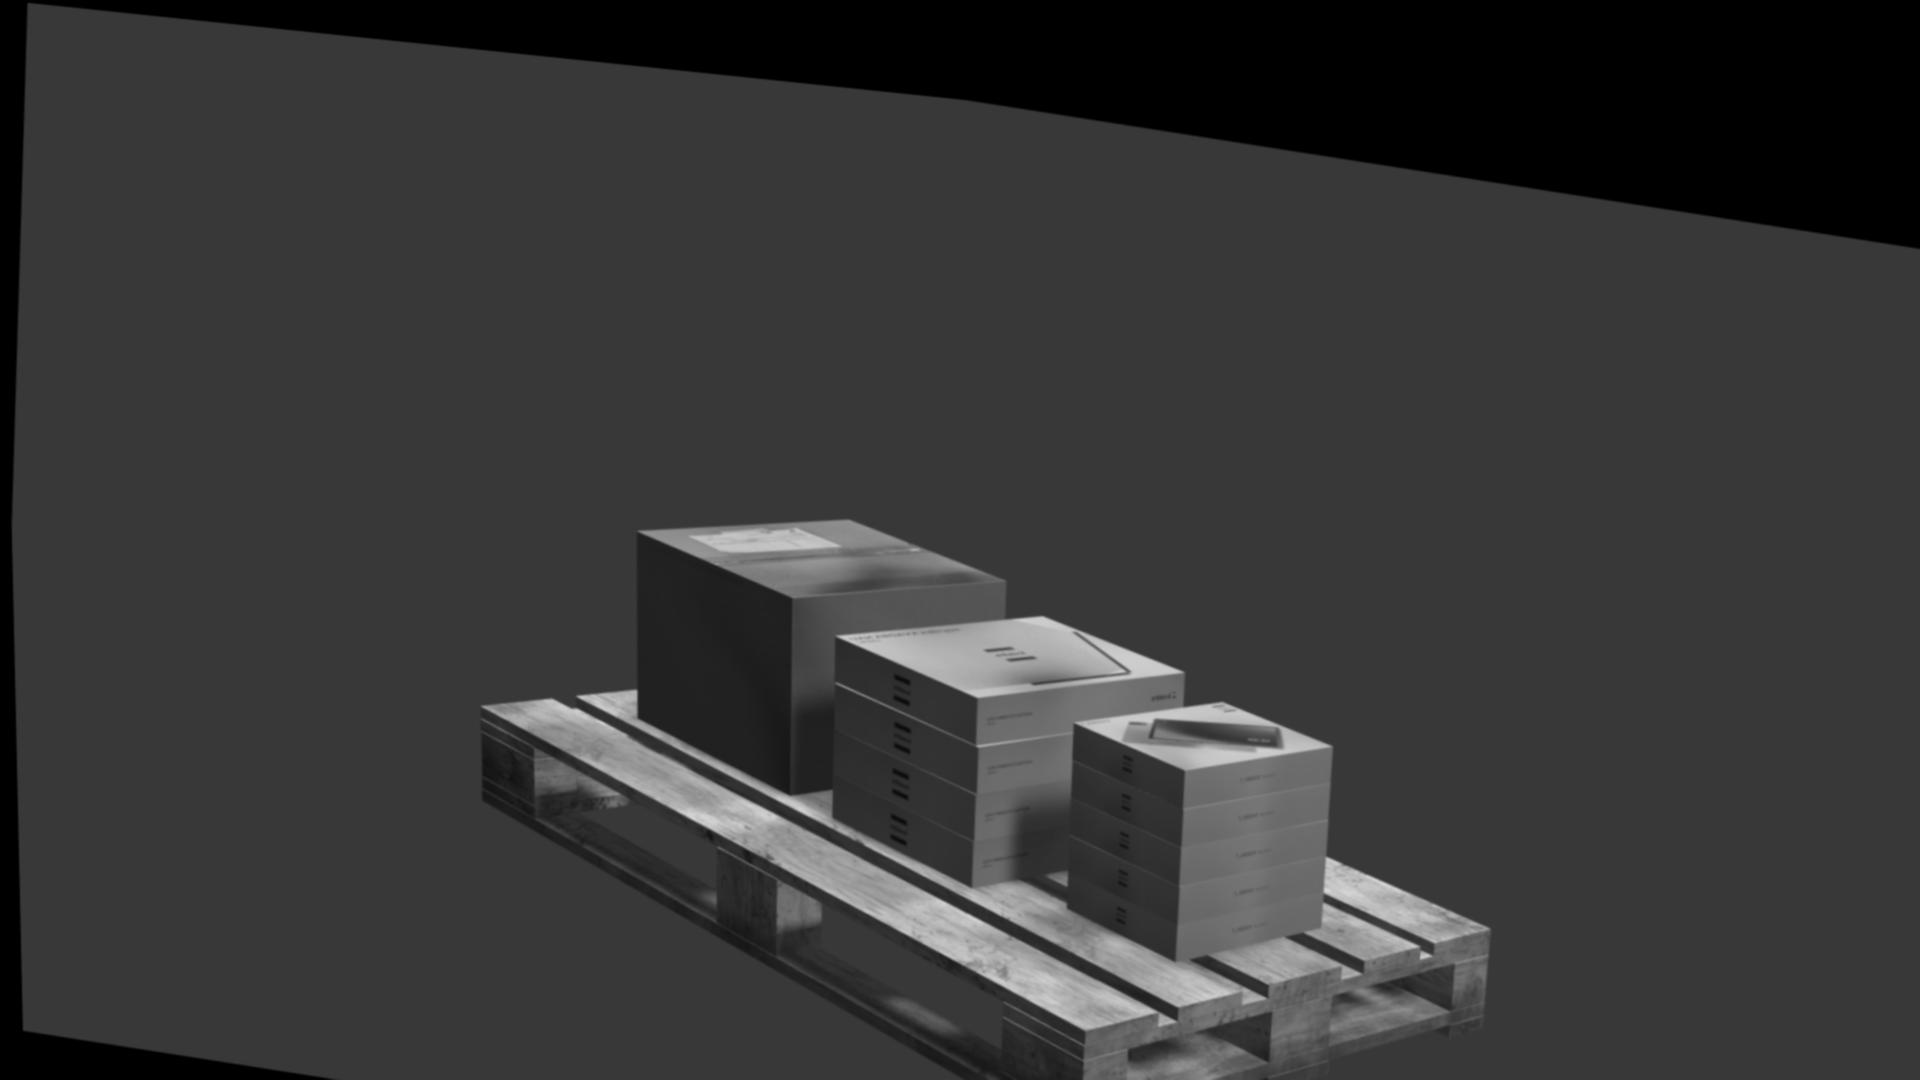group_box_left: (633, 520, 1004, 778)
group_box_top: (636, 501, 1001, 580)
laptop_left: (831, 617, 1182, 724), (827, 757, 1064, 866), (828, 712, 1067, 820), (831, 666, 1068, 773)
laptop_top: (832, 592, 1180, 675)
palet: (476, 676, 1489, 1080)
tablet_left: (1065, 774, 1324, 861), (1063, 851, 1319, 936), (1068, 699, 1328, 783), (1067, 737, 1327, 822), (1064, 814, 1321, 898)
tablet_top: (1072, 674, 1327, 744)
